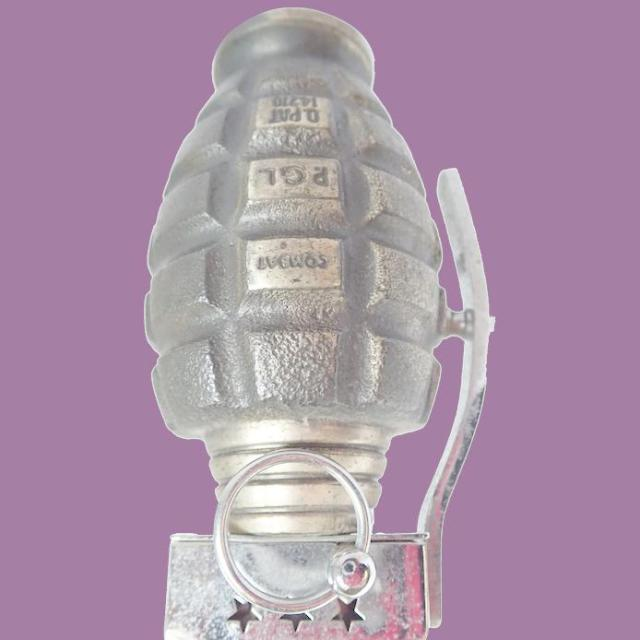grenade: (146, 8, 492, 640)
